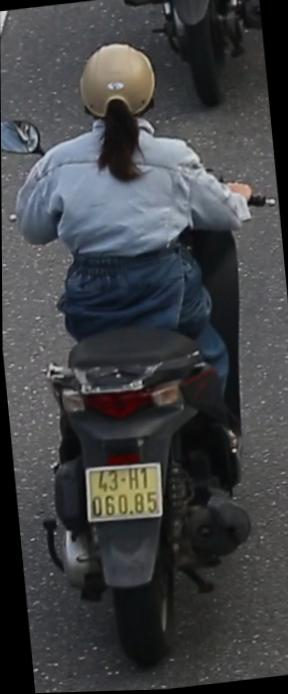LP: (78, 452, 172, 544)
helmet: (71, 35, 165, 127)
